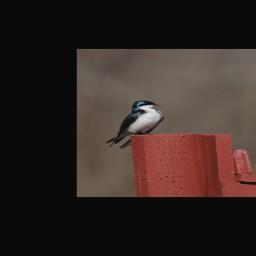Swallow: (105, 100, 165, 148)
